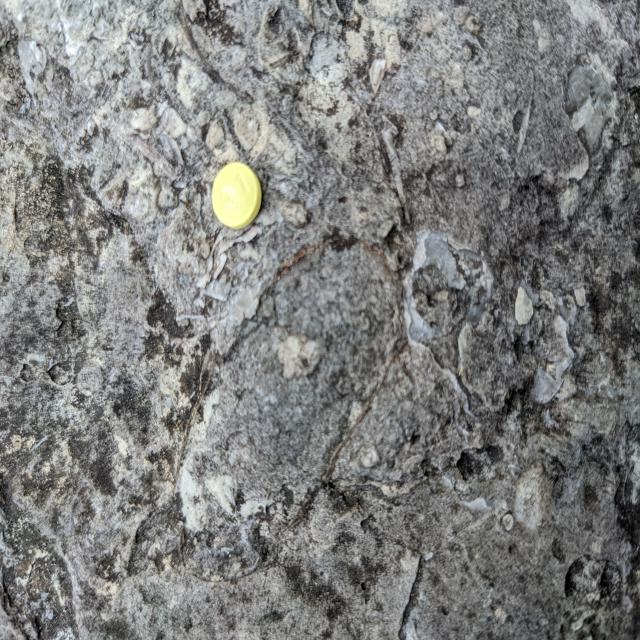non-organic waste: (210, 160, 264, 231)
